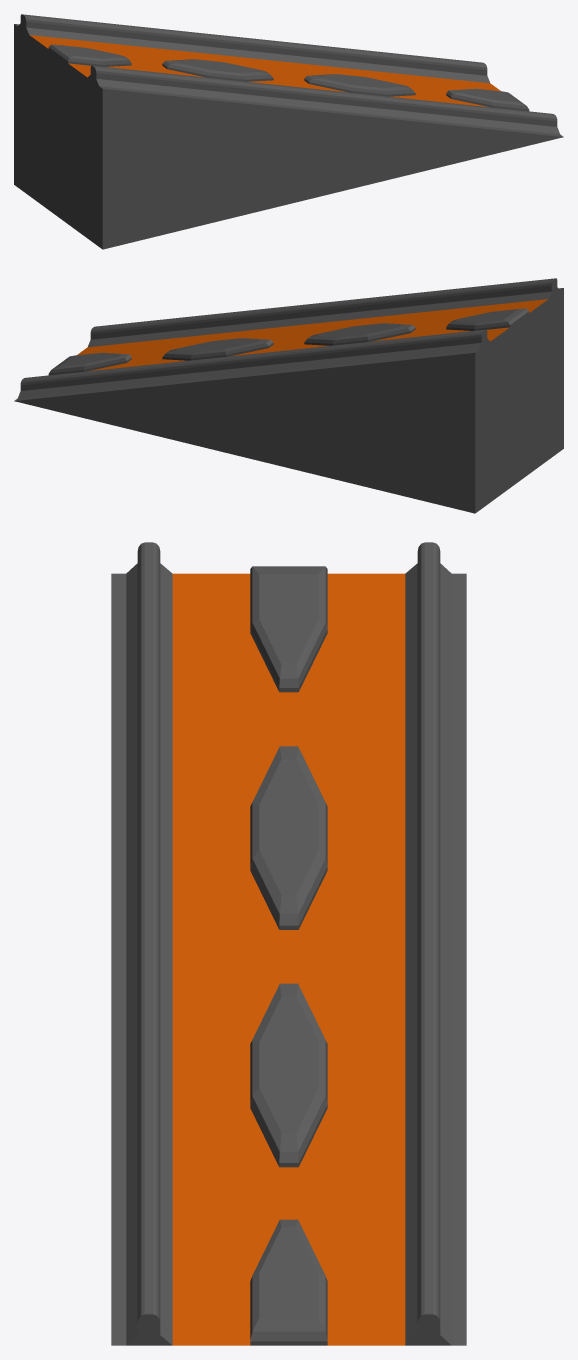
The model's file is RailDiagonal.fbx.
3 renders of one model, top to bottom at view 1: azimuth 30°, elevation 25°; view 2: azimuth 150°, elevation 25°; view 3: azimuth 270°, elevation 25°, orthographic. The views are drawn at different scales.
Visible parts, largest first — view 1: RailDiagonal; view 2: RailDiagonal; view 3: RailDiagonal.
Part boxes in pixels (x1=…): RailDiagonal: x1=14, y1=14, x2=563, y2=249; RailDiagonal: x1=14, y1=278, x2=563, y2=513; RailDiagonal: x1=111, y1=542, x2=466, y2=1345.
Size of the model in its own units: 3 by 1.1 by 1.
